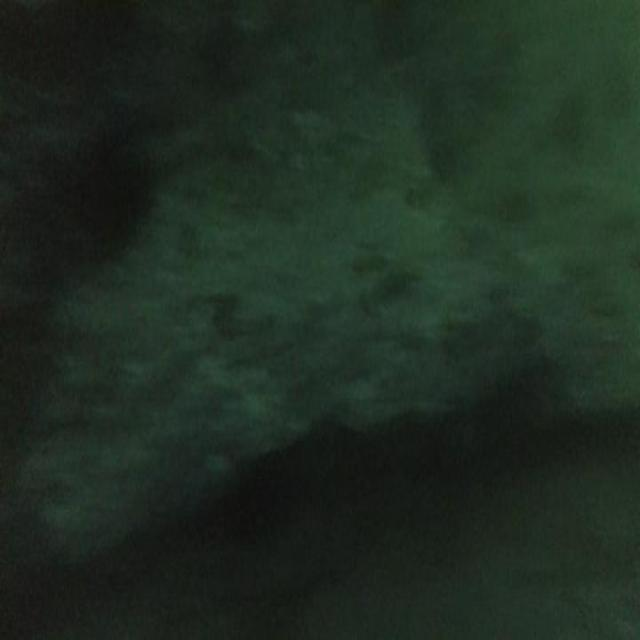echinus: (81, 125, 147, 257)
